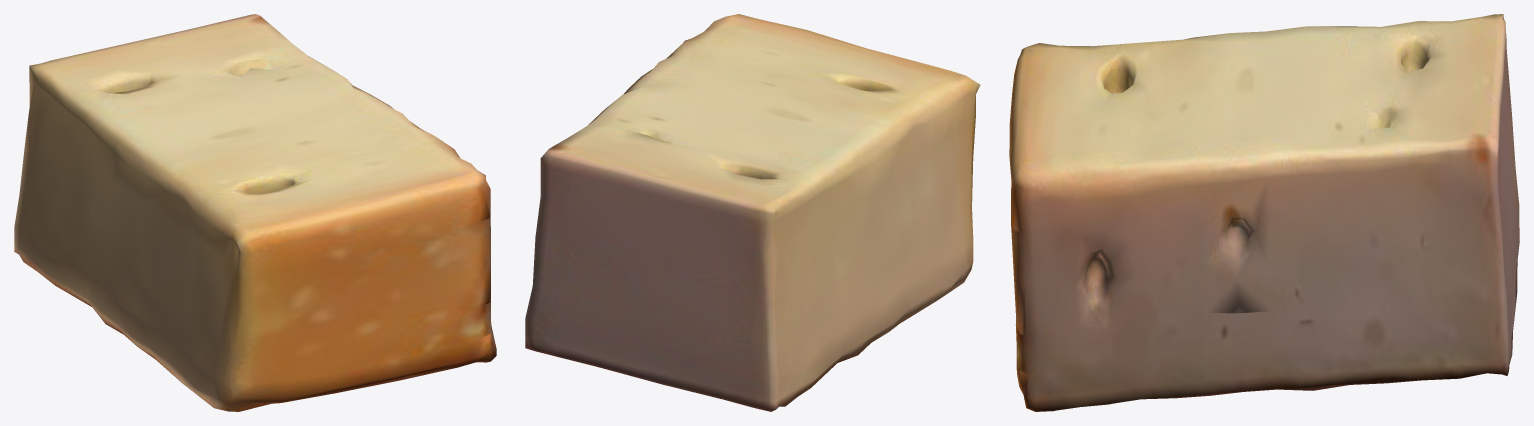
Rendered from butter.glb.
3 renders of one model, left to right at view 1: azimuth 30°, elevation 25°; view 2: azimuth 150°, elevation 25°; view 3: azimuth 270°, elevation 25°, orthographic. The views are drawn at different scales.
Parts seen in each view (by area): view 1: Butter; view 2: Butter; view 3: Butter.
Boxes of the visible parts, x1,y1,x2,y2 form: Butter: [14, 14, 496, 411]; Butter: [525, 14, 980, 411]; Butter: [1009, 14, 1519, 411].
Size of the model in its own units: 1.02 by 0.7603 by 1.4.
1 material, 1 textured.
